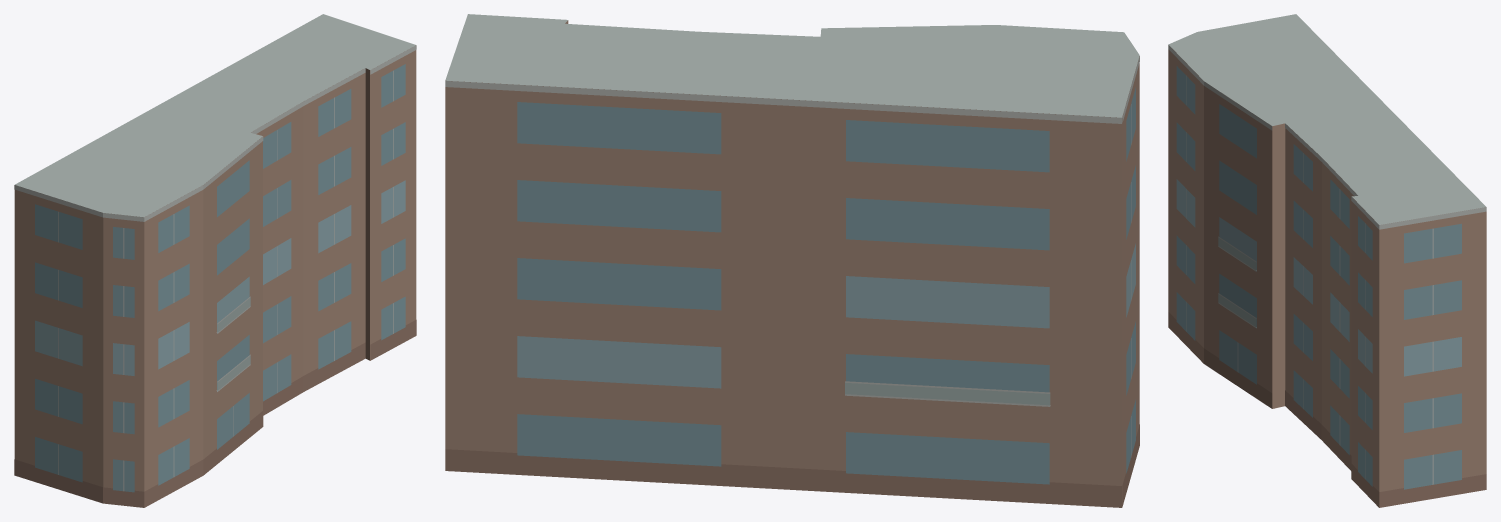
File: survey-upis-32622468.glb
The picture shows the model from 3 angles, left to right: view 1: azimuth 30°, elevation 25°; view 2: azimuth 150°, elevation 25°; view 3: azimuth 270°, elevation 25°; orthographic projection. The views are drawn at different scales.
Visible parts, largest first — view 1: survey-upis-32622468.tmp; view 2: survey-upis-32622468.tmp; view 3: survey-upis-32622468.tmp.
Boxes of the visible parts, <box> form: survey-upis-32622468.tmp: <box>14,14,416,507</box>; survey-upis-32622468.tmp: <box>445,14,1139,507</box>; survey-upis-32622468.tmp: <box>1168,14,1486,507</box>.
Bounding box in the file's own units: 24.19 × 15.1 × 15.41.
